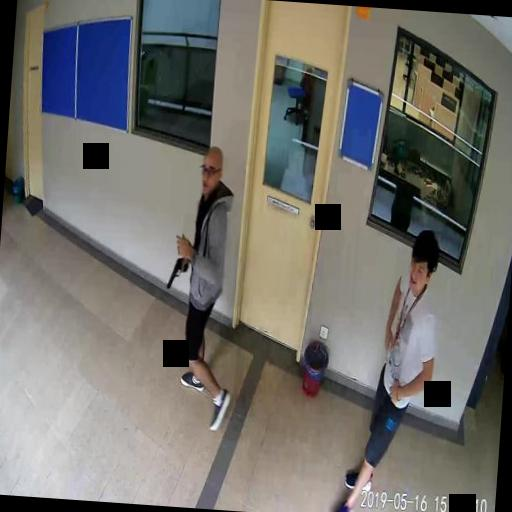Handgun: (166, 256, 188, 288)
